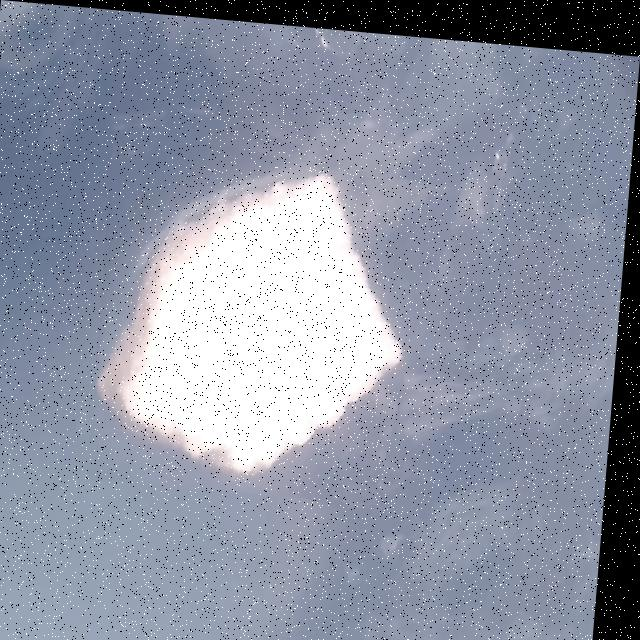litter: (93, 112, 451, 500)
